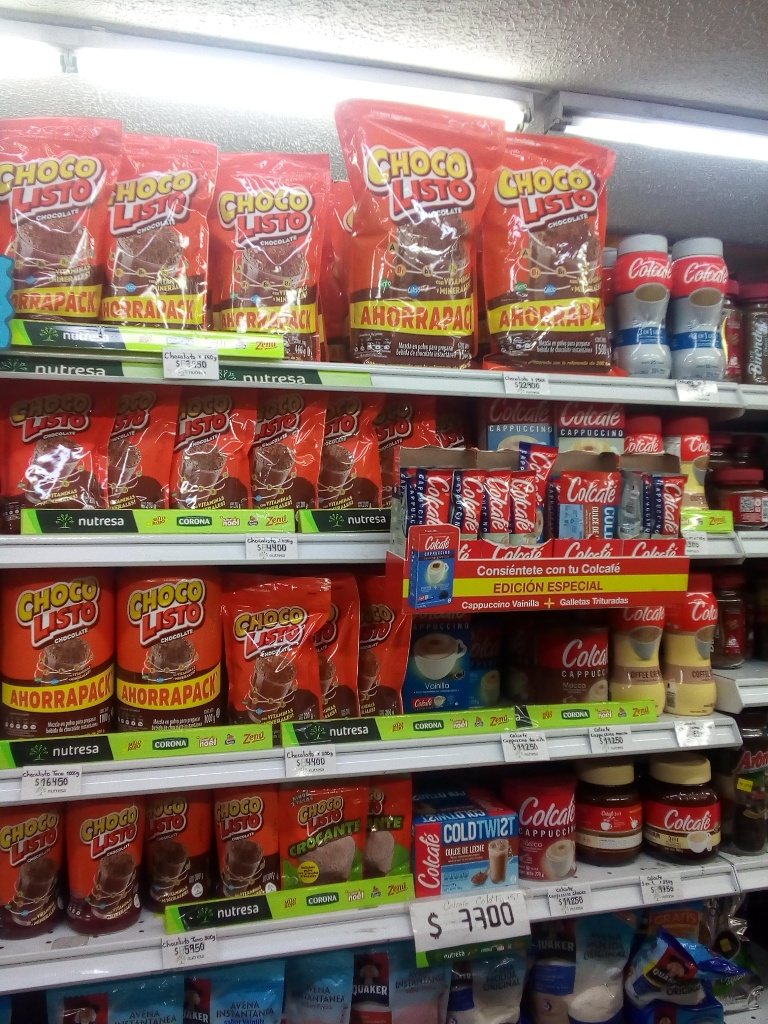COL0170103DYP44000: (1, 115, 117, 325)
COL0170103TRR00100: (0, 568, 115, 733)
